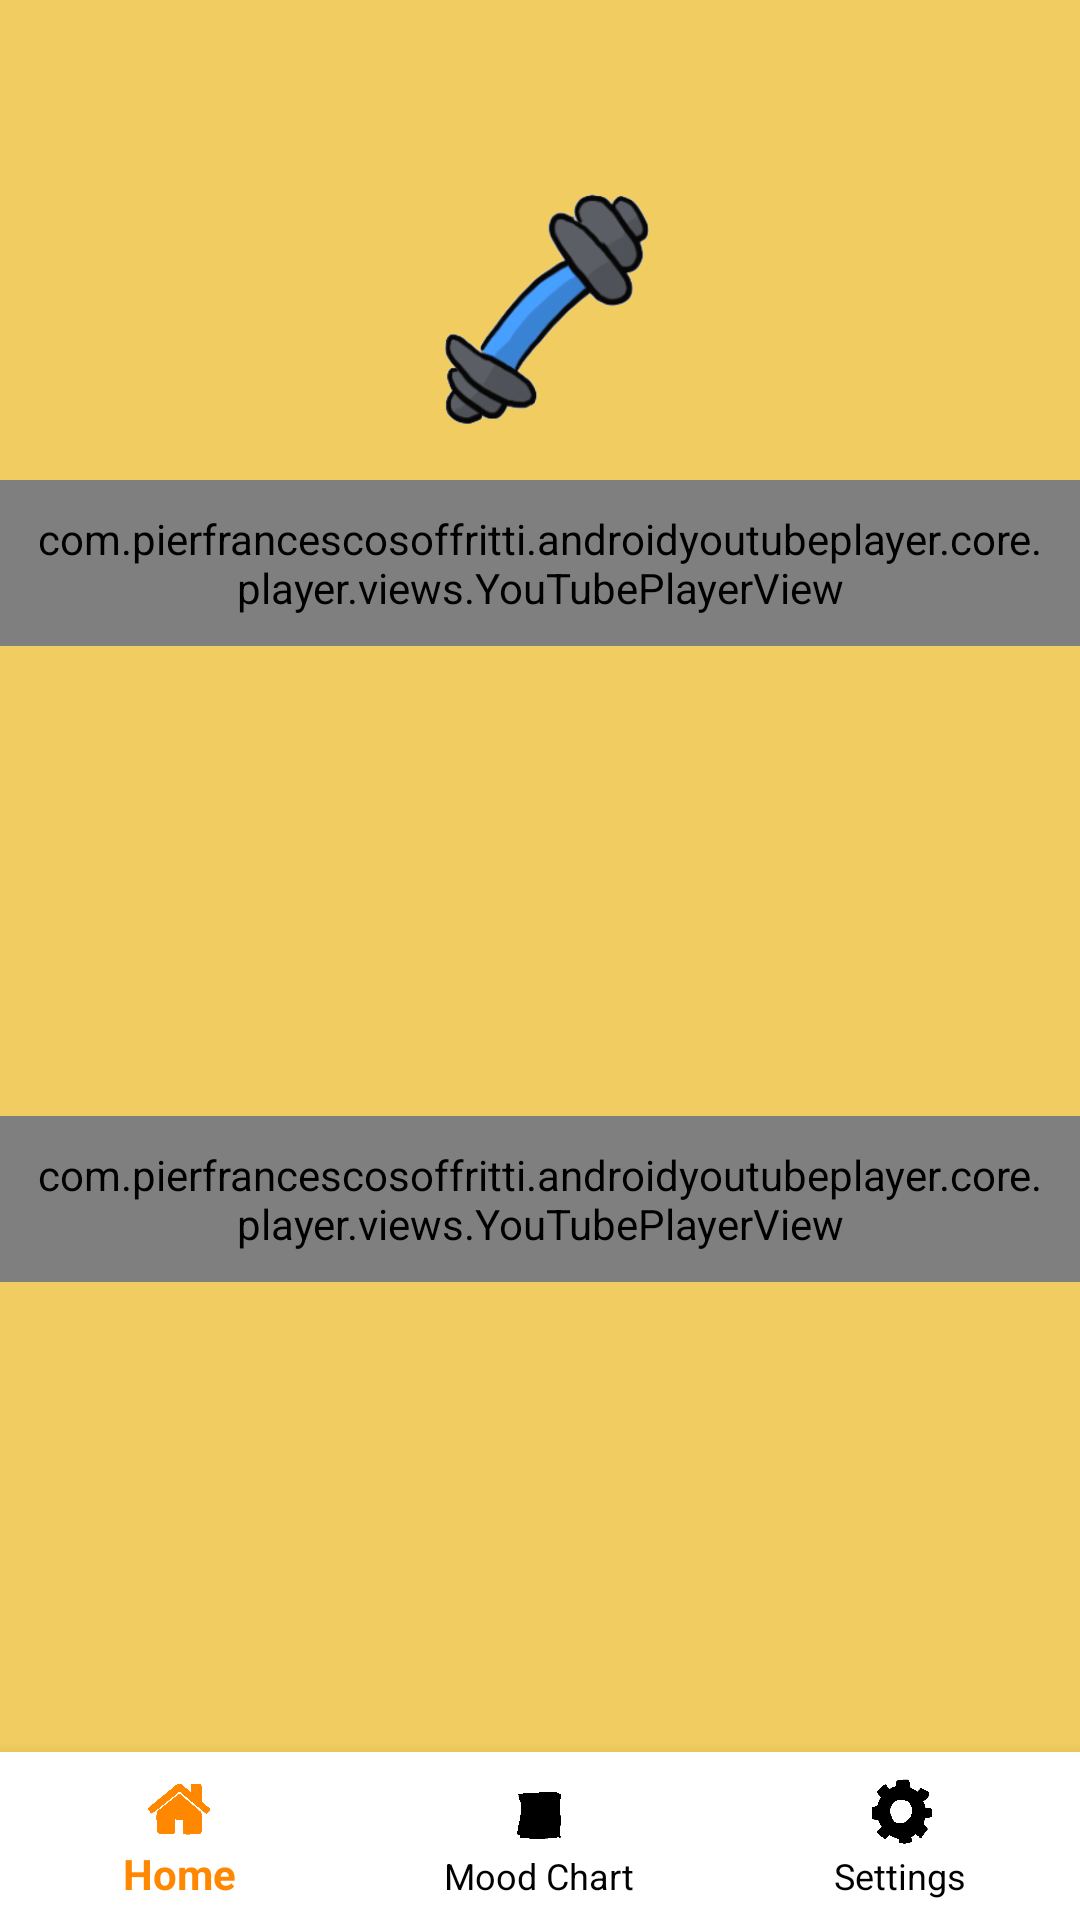

Locate icon controls on the screen. Image size 1080w x 1920h, boxes as (x1, y1, x2, y2).
exercise: (445, 194, 649, 424)
